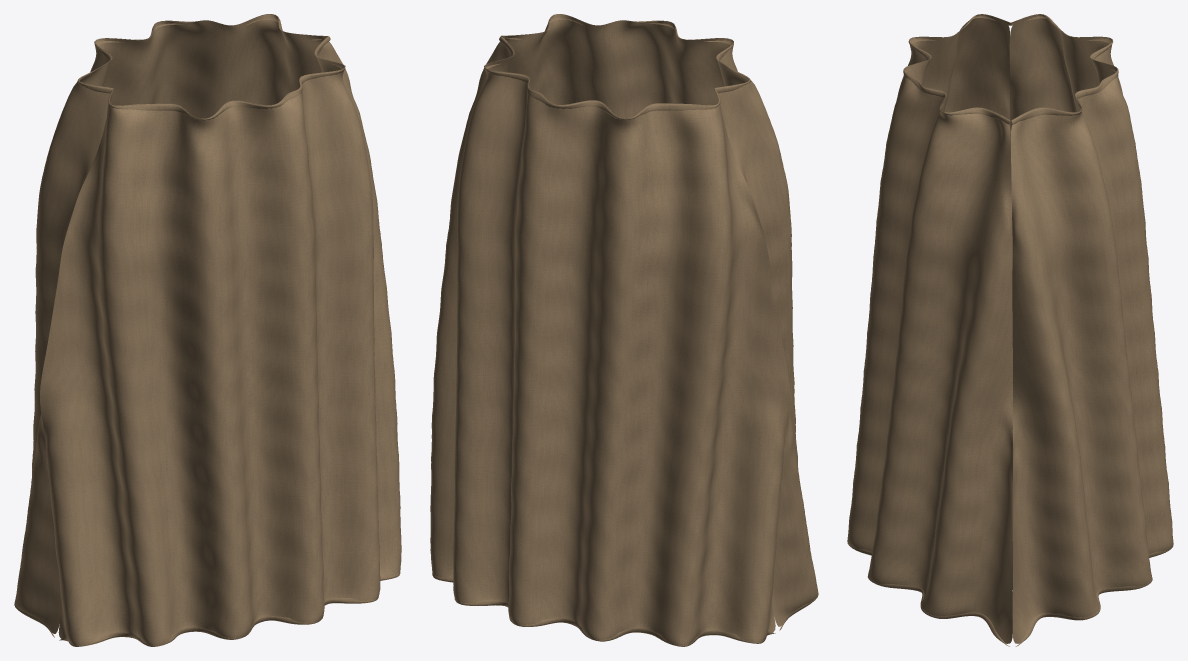
Rendered from 燕麦色压褶裙.glb.
3 views of the same model, side by side, from view 1: azimuth 30°, elevation 25°; view 2: azimuth 150°, elevation 25°; view 3: azimuth 270°, elevation 25° (orthographic). The views are drawn at different scales.
Parts seen in each view (by area): view 1: 前片, 后片, 前片 包边, 后片 包边; view 2: 后片, 前片, 后片 包边, 前片 包边; view 3: 前片, 后片, 后片 包边, 前片 包边.
Part boxes in pixels (x1,y1,x2,y2): 前片: (40, 41, 401, 646); 后片: (14, 14, 324, 633); 前片 包边: (59, 36, 400, 646); 后片 包边: (14, 14, 327, 637); 后片: (430, 41, 790, 646); 前片: (504, 14, 818, 626); 后片 包边: (432, 36, 775, 646); 前片 包边: (501, 14, 818, 630); 前片: (847, 14, 1012, 643); 后片: (1009, 14, 1173, 643); 后片 包边: (1010, 14, 1171, 646); 前片 包边: (847, 14, 1011, 646).
Bounding box in the file's own units: 0.4658 × 0.6708 × 0.3958.
Materials: 4 (4 with a texture image).
